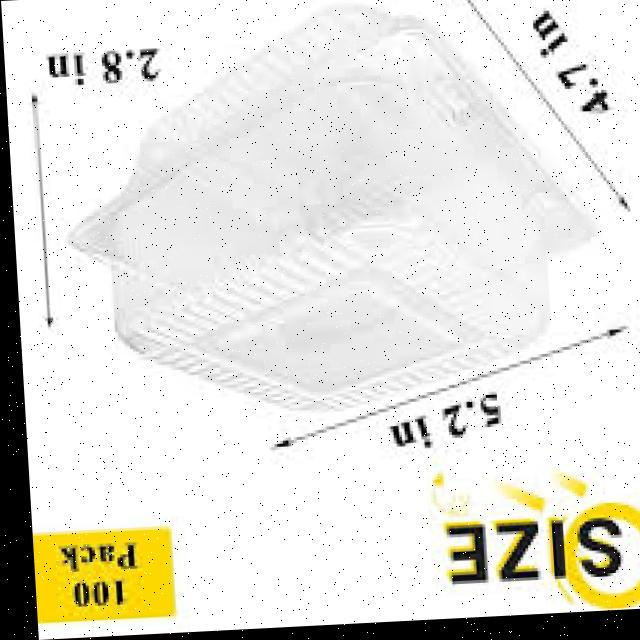disposable: (53, 0, 587, 429)
